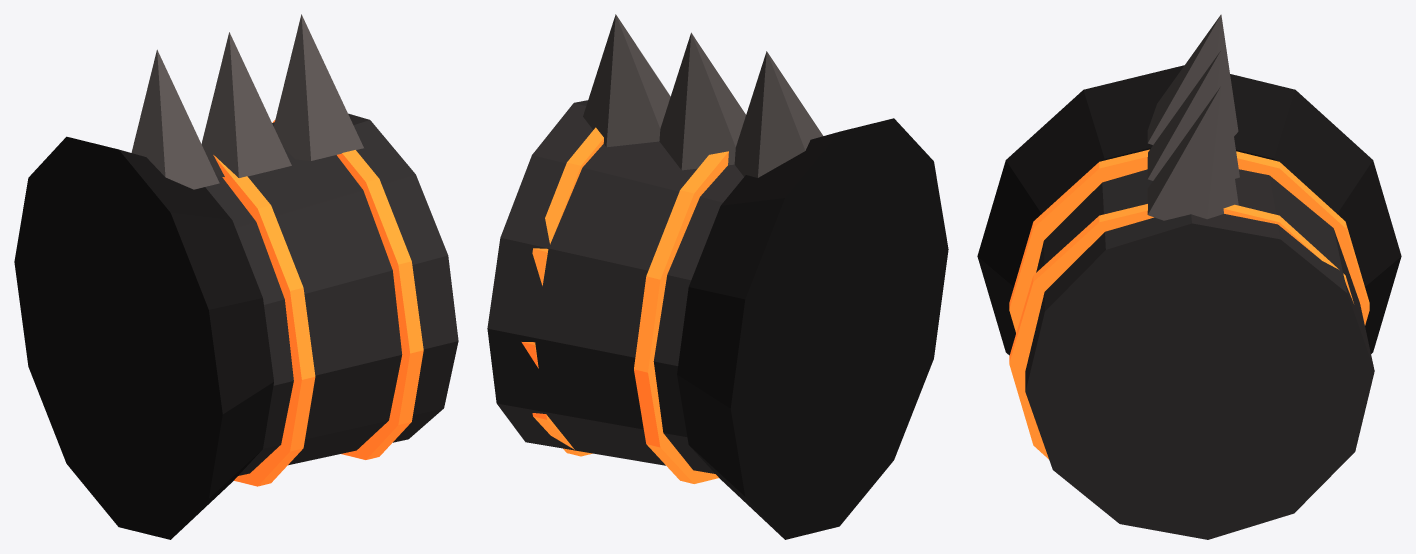
File: hearth_guard_bracer_r.glb
3 views of the same model, side by side, from view 1: azimuth 30°, elevation 25°; view 2: azimuth 150°, elevation 25°; view 3: azimuth 270°, elevation 25° (orthographic). The views are drawn at different scales.
Parts seen in each view (by area): view 1: hearth_guard_bracer_r; view 2: hearth_guard_bracer_r; view 3: hearth_guard_bracer_r.
Part boxes in pixels (x1,y1,x2,y2): hearth_guard_bracer_r: (14, 14, 458, 539); hearth_guard_bracer_r: (487, 14, 948, 539); hearth_guard_bracer_r: (977, 14, 1401, 539).
Size of the model in its own units: 0.2875 by 0.48 by 0.4.
